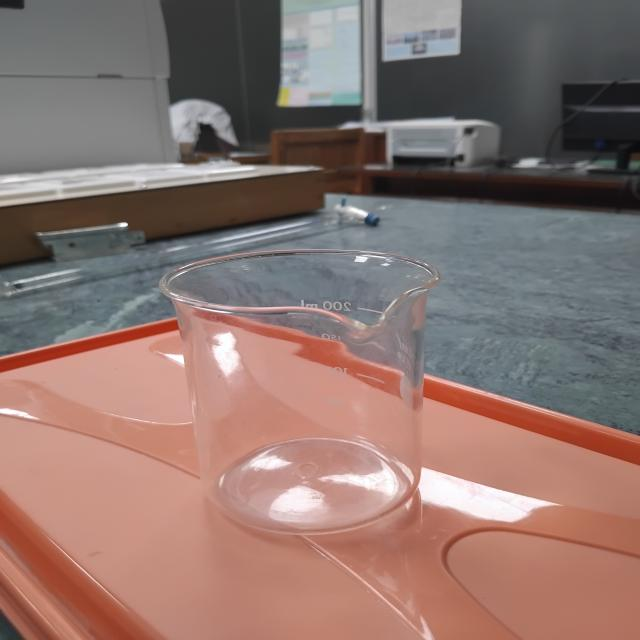Beaker: (136, 230, 505, 560)
